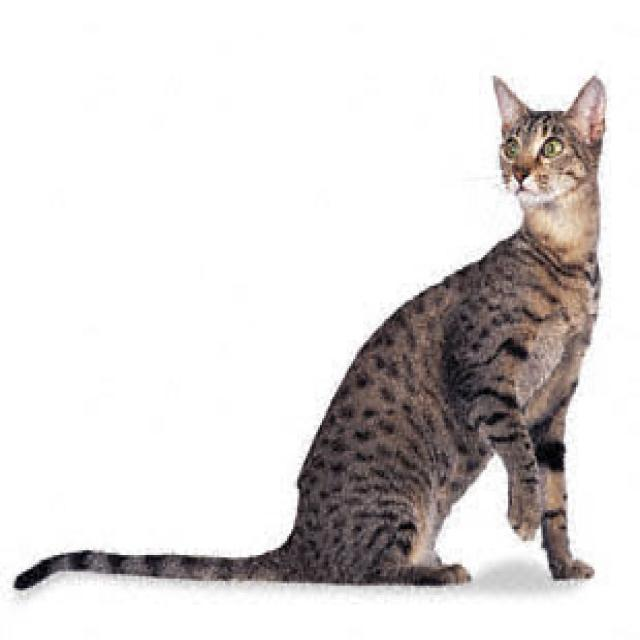Egyptian_Mau: (492, 71, 610, 228)
